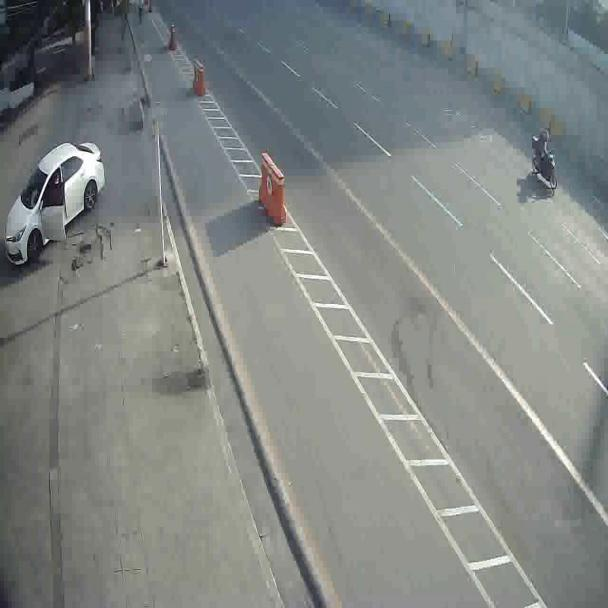motorcyclist: (526, 130, 557, 198)
vehicle: (4, 134, 107, 280)
